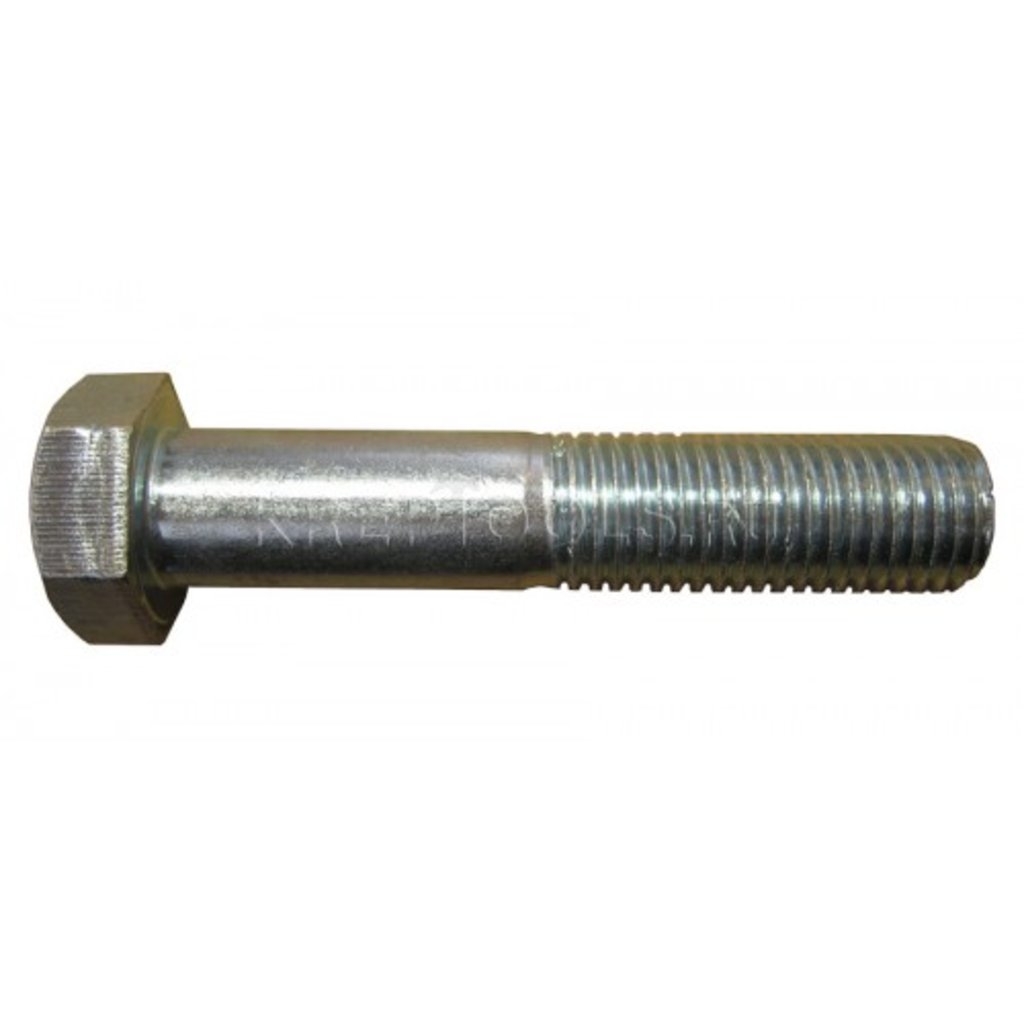screw: (28, 373, 999, 647)
